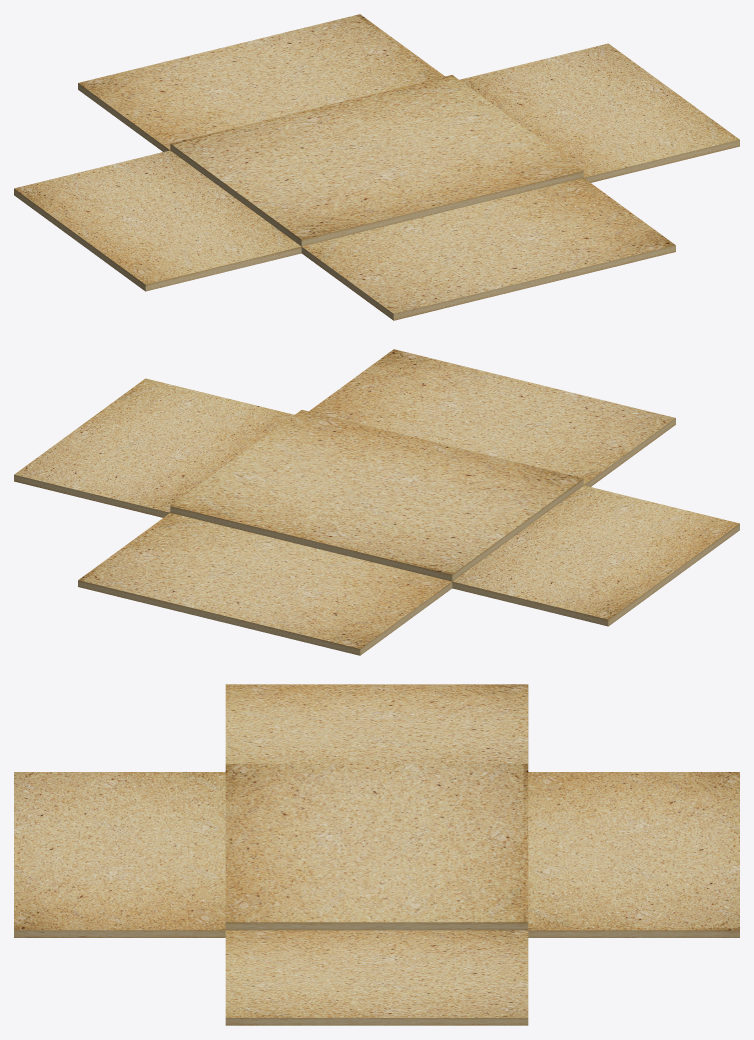
3 renders of one model, top to bottom at view 1: azimuth 30°, elevation 25°; view 2: azimuth 150°, elevation 25°; view 3: azimuth 270°, elevation 25°, orthographic. The views are drawn at different scales.
Parts seen in each view (by area): view 1: L, W2, W1, H1, H2; view 2: L, W1, W2, H1, H2; view 3: L, W1, W2, H2, H1.
Part boxes in pixels (<box>): L: <box>170,75,583,246</box>; W2: <box>301,178,675,320</box>; W1: <box>78,14,444,151</box>; H1: <box>14,150,301,291</box>; H2: <box>459,43,739,182</box>; L: <box>170,410,583,581</box>; W1: <box>78,513,452,655</box>; W2: <box>309,349,675,486</box>; H1: <box>452,485,739,626</box>; H2: <box>14,378,294,517</box>; L: <box>225,764,528,930</box>; W1: <box>528,772,739,937</box>; W2: <box>14,772,225,937</box>; H2: <box>225,930,528,1025</box>; H1: <box>225,684,528,763</box>.
Size of the model in its own units: 54.8 by 1.2 by 50.4.
1 material, 1 textured.
